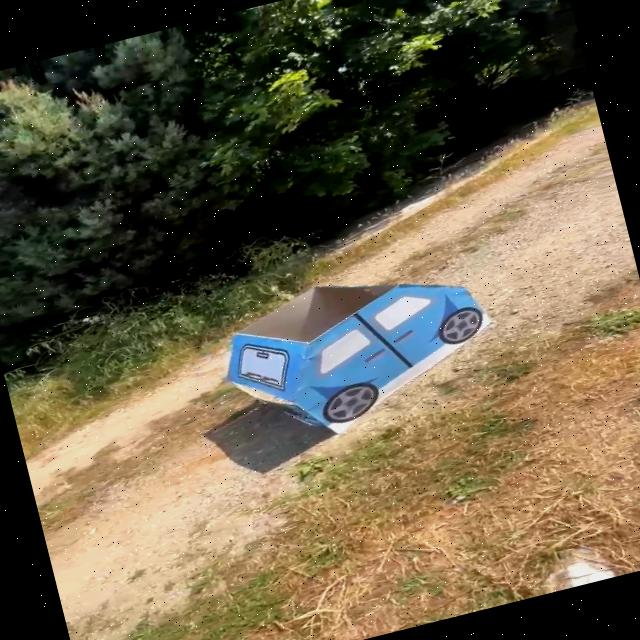blue_car: (193, 239, 518, 473)
